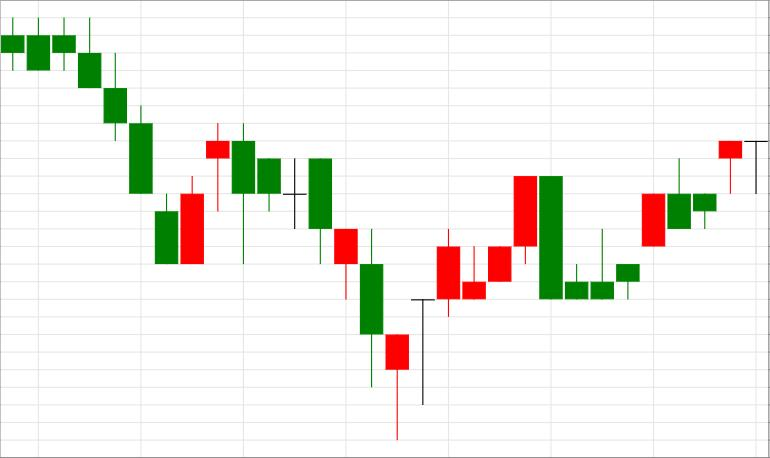bearish_engulfing_fall: (386, 176, 563, 440)
bullish_engulfing_rise: (1, 16, 204, 264)
hammer_rise: (232, 124, 409, 441)
